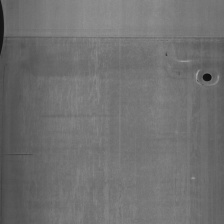welding_line: (3, 31, 224, 46), (200, 69, 215, 84)
